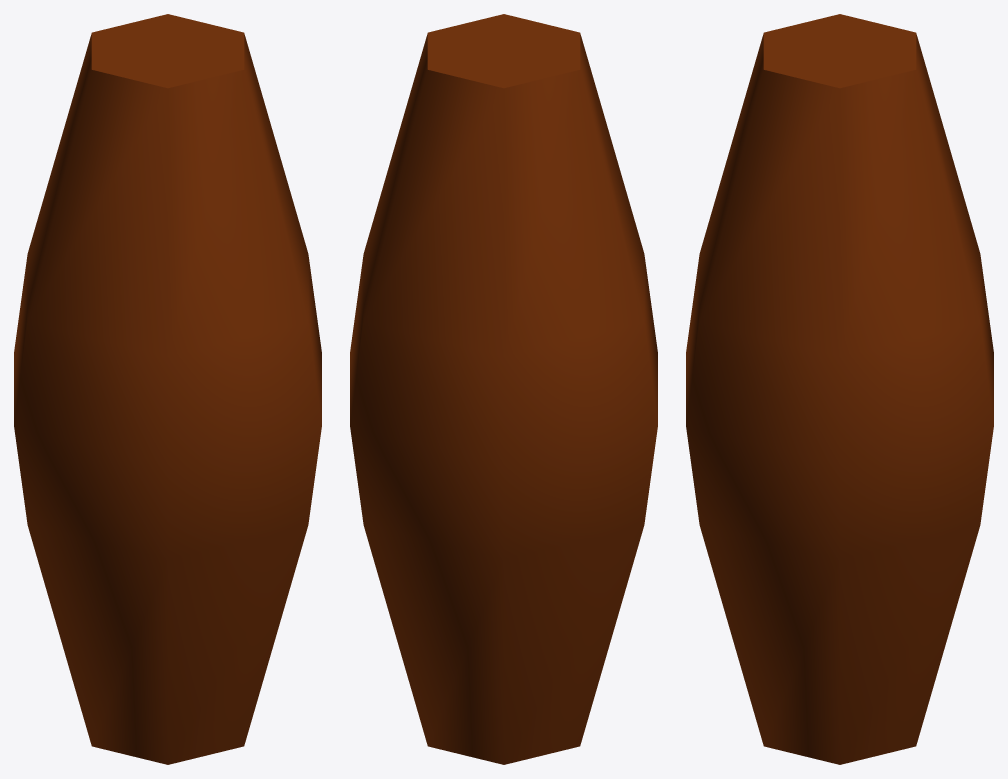
The model's file is Toggle_Button.fbx.
3 views of the same model, side by side, from view 1: azimuth 30°, elevation 25°; view 2: azimuth 150°, elevation 25°; view 3: azimuth 270°, elevation 25° (orthographic).
Visible parts, largest first — view 1: Toggle_Button; view 2: Toggle_Button; view 3: Toggle_Button.
Boxes of the visible parts, x1=… form: Toggle_Button: x1=14, y1=14, x2=321, y2=764; Toggle_Button: x1=350, y1=14, x2=657, y2=764; Toggle_Button: x1=686, y1=14, x2=993, y2=764.
Size of the model in its own units: 2.97 by 6.24 by 2.57.
